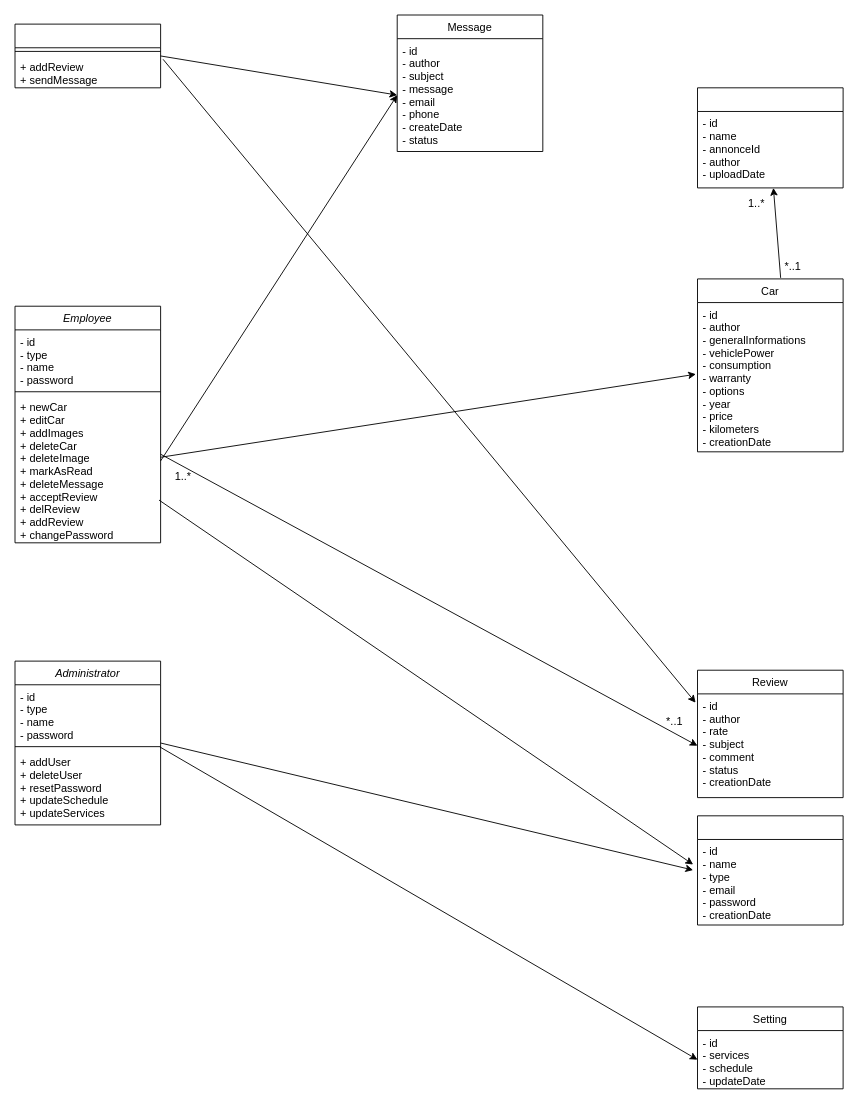
This 858x1104 diagram has some shape labels left out. Each missing label, with the box of its shape:
CarImage: (697, 87, 843, 188)
User: (697, 815, 843, 925)
Visitor: (14, 23, 161, 88)
